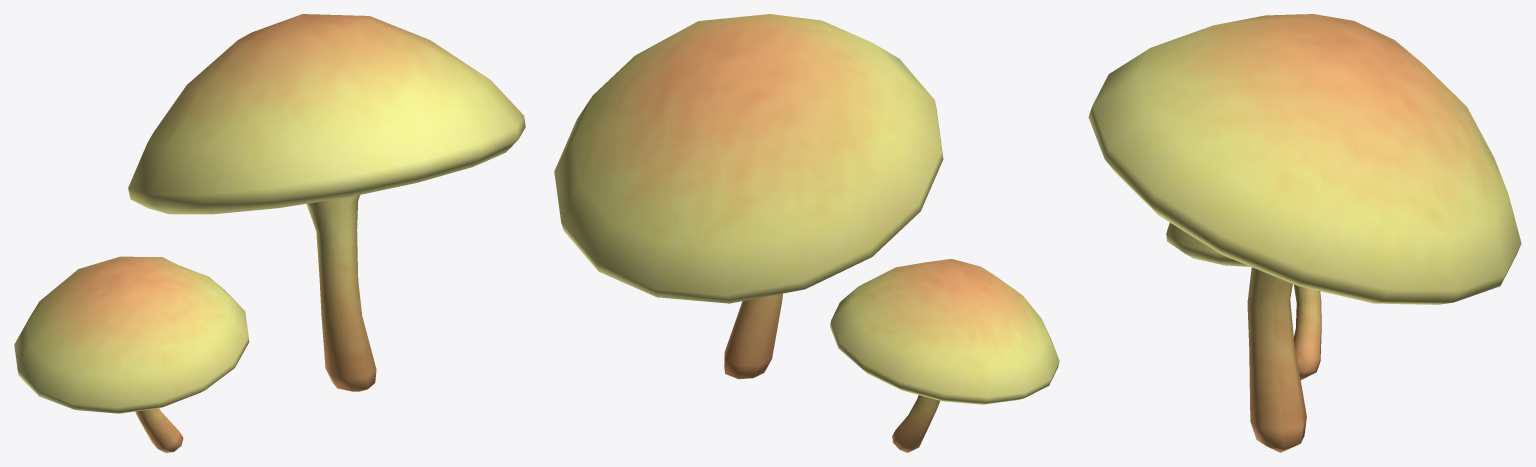
The model's file is Cartoon Seaweed_13-1-10.fbx.
The picture shows the model from 3 angles, left to right: view 1: azimuth 30°, elevation 25°; view 2: azimuth 150°, elevation 25°; view 3: azimuth 270°, elevation 25°; orthographic projection. The views are drawn at different scales.
Visible parts, largest first — view 1: Cartoon Seaweed_13.1.10; view 2: Cartoon Seaweed_13.1.10; view 3: Cartoon Seaweed_13.1.10.
Boxes of the visible parts, box(x1,y1,x2,y2) form: Cartoon Seaweed_13.1.10: box(14, 14, 525, 452); Cartoon Seaweed_13.1.10: box(554, 14, 1059, 452); Cartoon Seaweed_13.1.10: box(1088, 14, 1521, 452).
Bounding box in the file's own units: 8.99 × 7 × 6.32.
1 material, 1 textured.
